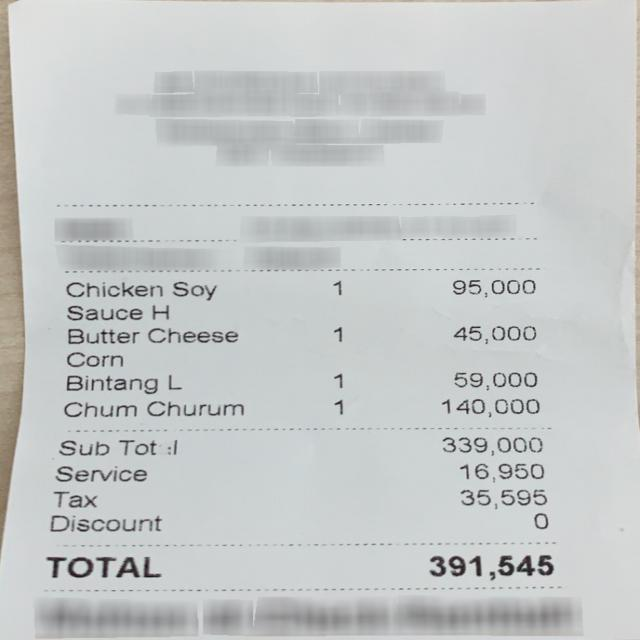text: (429, 553, 552, 578), (46, 556, 160, 578), (441, 434, 539, 454), (47, 514, 160, 530), (440, 398, 537, 416), (458, 488, 544, 508), (65, 374, 155, 393), (457, 460, 541, 480), (65, 280, 161, 297), (451, 324, 533, 343), (54, 463, 144, 480), (451, 278, 533, 296), (146, 400, 242, 415), (453, 371, 535, 388), (145, 326, 235, 341), (66, 327, 137, 343), (66, 304, 141, 319), (62, 400, 135, 415), (65, 351, 121, 365), (172, 281, 214, 299), (53, 490, 97, 507), (59, 439, 108, 454), (118, 439, 155, 453), (530, 510, 549, 530), (150, 304, 166, 318), (166, 438, 178, 454), (168, 374, 178, 388), (333, 372, 343, 386), (333, 399, 343, 413), (332, 326, 341, 341), (332, 281, 341, 295)
